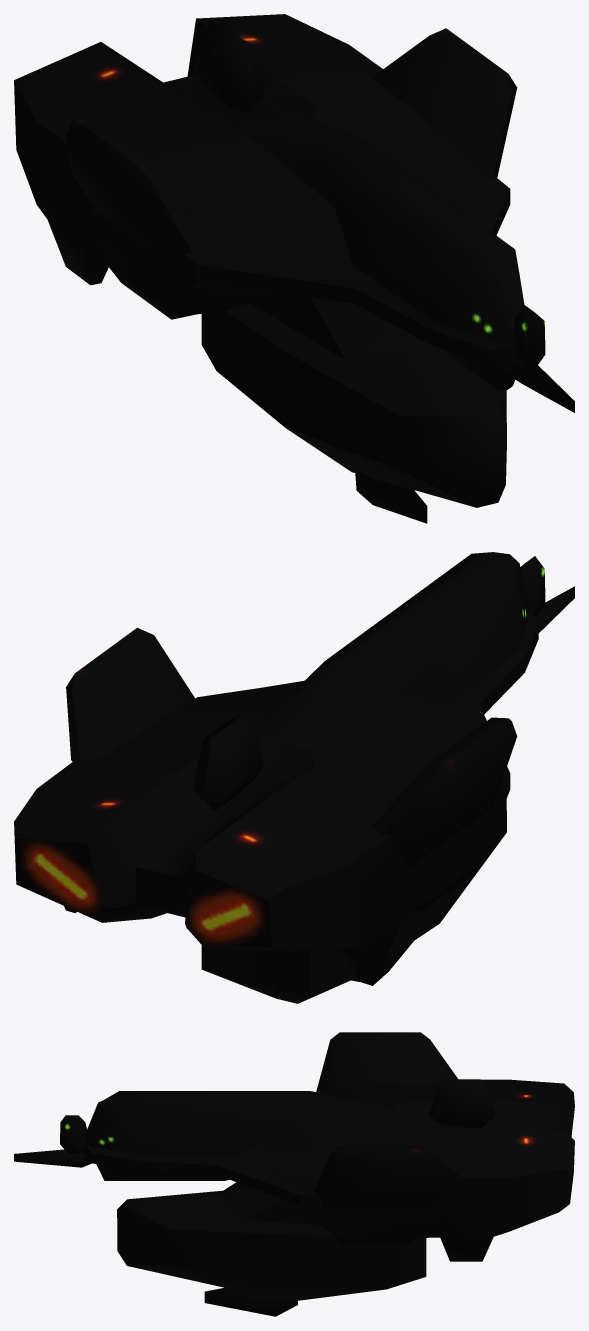
The model's file is tan_sf_plbo_01_t2.glb.
3 renders of one model, top to bottom at view 1: azimuth 30°, elevation 25°; view 2: azimuth 150°, elevation 25°; view 3: azimuth 270°, elevation 25°, orthographic. The views are drawn at different scales.
Parts seen in each view (by area): view 1: tan_plasma_bomber_01_LOD0; view 2: tan_plasma_bomber_01_LOD0; view 3: tan_plasma_bomber_01_LOD0.
Boxes of the visible parts, box(x1,y1,x2,y2) form: tan_plasma_bomber_01_LOD0: box(14, 14, 574, 523); tan_plasma_bomber_01_LOD0: box(14, 552, 574, 1003); tan_plasma_bomber_01_LOD0: box(14, 1032, 574, 1316).
Size of what is drawn, in the model's own units: 0.2204 by 0.1981 by 0.4257.
Materials: 1 (1 with a texture image).
